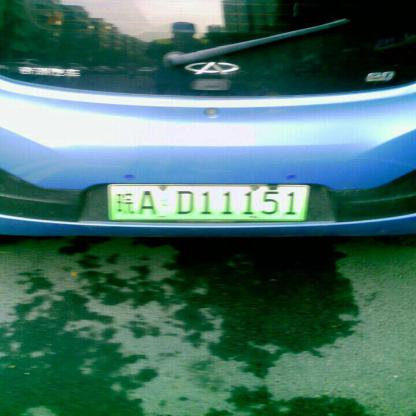lp: (108, 185, 311, 221)
